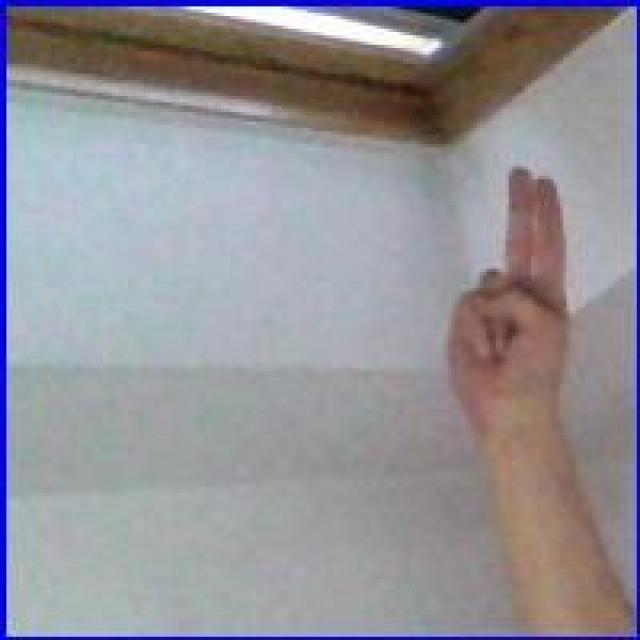U: (443, 162, 578, 414)
